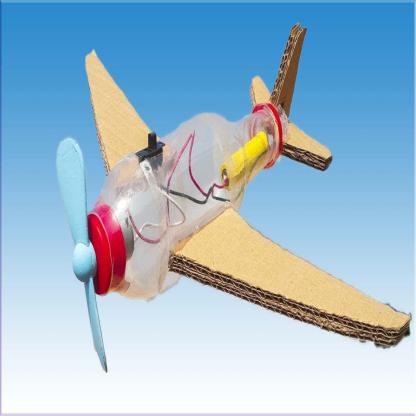CIV_Plane: (47, 23, 396, 414)
